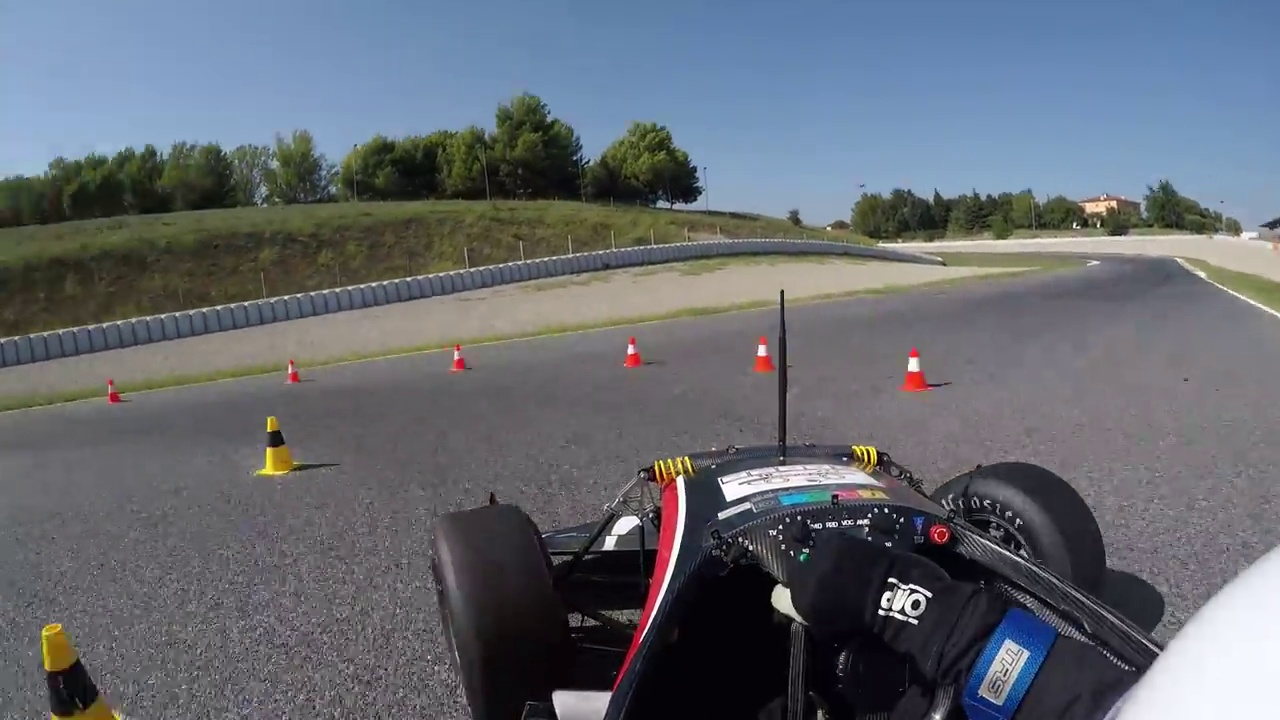Cone: (258, 416, 299, 481), (899, 345, 932, 391), (752, 331, 775, 372), (623, 334, 647, 370), (448, 340, 471, 375)
